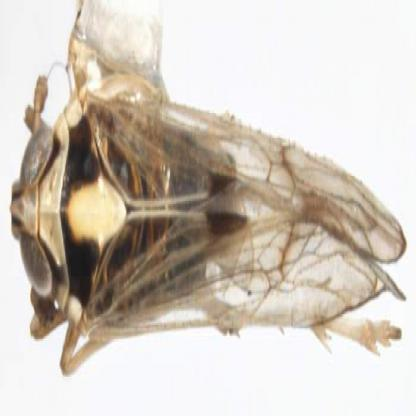brown-planthopper: (12, 62, 402, 360)
